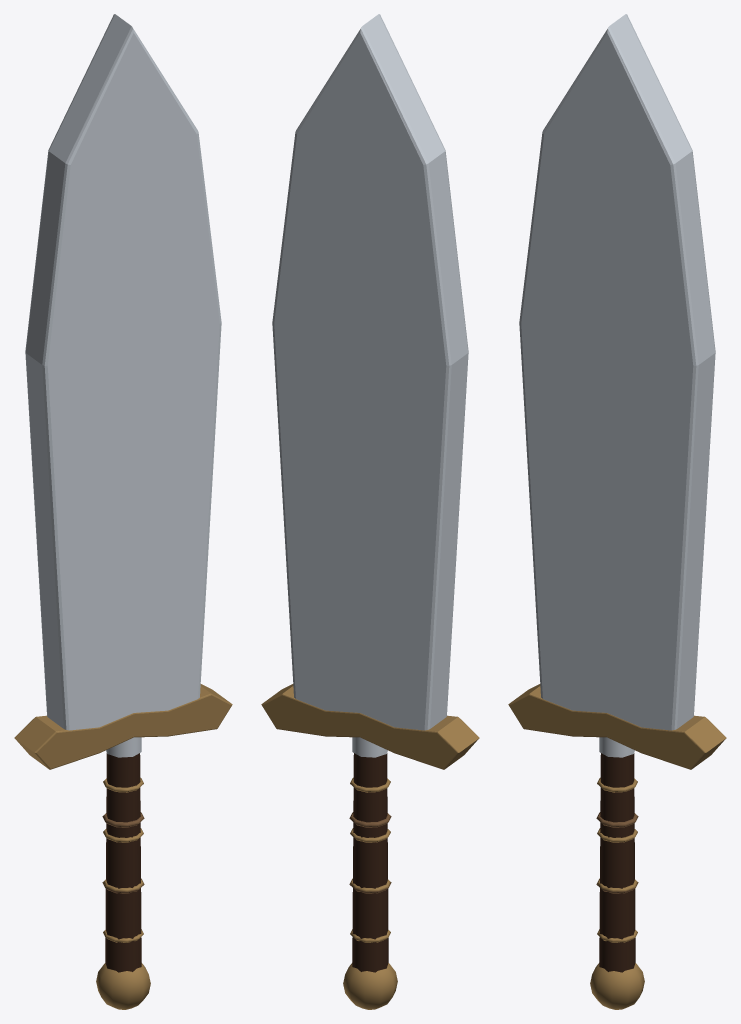
The model's file is greatsword_f0_acf3b8d1.glb.
3 views of the same model, side by side, from view 1: azimuth 30°, elevation 25°; view 2: azimuth 150°, elevation 25°; view 3: azimuth 330°, elevation 25° (orthographic).
Parts seen in each view (by area): view 1: m3_ow80_, m4_ow80_, m1_ow80_; view 2: m3_ow80_, m4_ow80_, m1_ow80_; view 3: m3_ow80_, m4_ow80_, m1_ow80_.
Part boxes in pixels (x1,y1,x2,y2): m3_ow80_: (25,14,221,757); m4_ow80_: (14,684,232,1009); m1_ow80_: (105,753,141,972); m3_ow80_: (272,14,468,757); m4_ow80_: (261,684,479,1009); m1_ow80_: (352,753,388,972); m3_ow80_: (519,14,715,757); m4_ow80_: (508,684,726,1009); m1_ow80_: (599,753,635,972).
Bounding box in the file's own units: 0.6912 × 3.29 × 0.1583.
